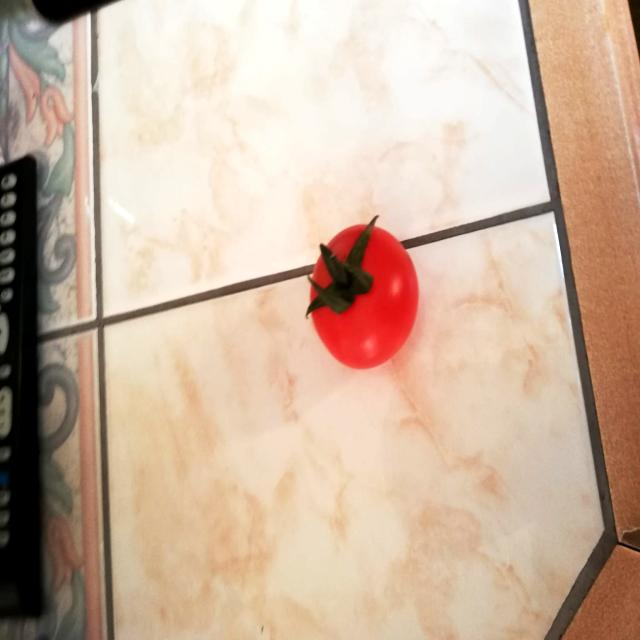tomato: (302, 211, 422, 374)
